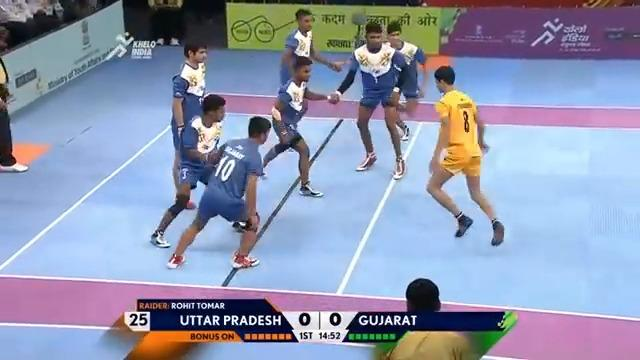Player: (165, 115, 272, 270), (330, 21, 408, 179), (150, 93, 229, 247), (259, 55, 339, 197), (169, 41, 209, 210), (277, 8, 344, 89), (384, 20, 427, 141)
Raider: (426, 64, 506, 246)
referee: (382, 277, 478, 359), (0, 56, 29, 172), (147, 0, 185, 46)
